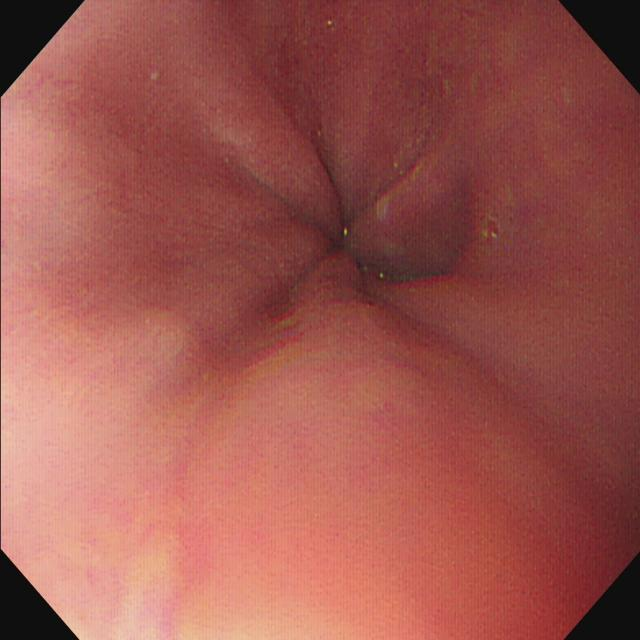I: (240, 110, 456, 350)
